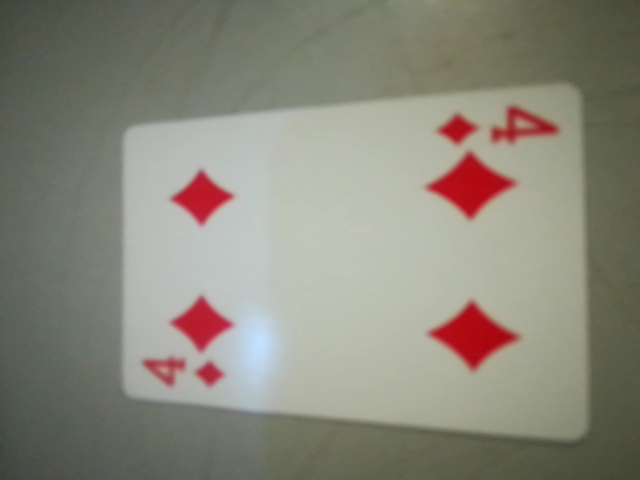fk 4: (420, 100, 570, 167)
